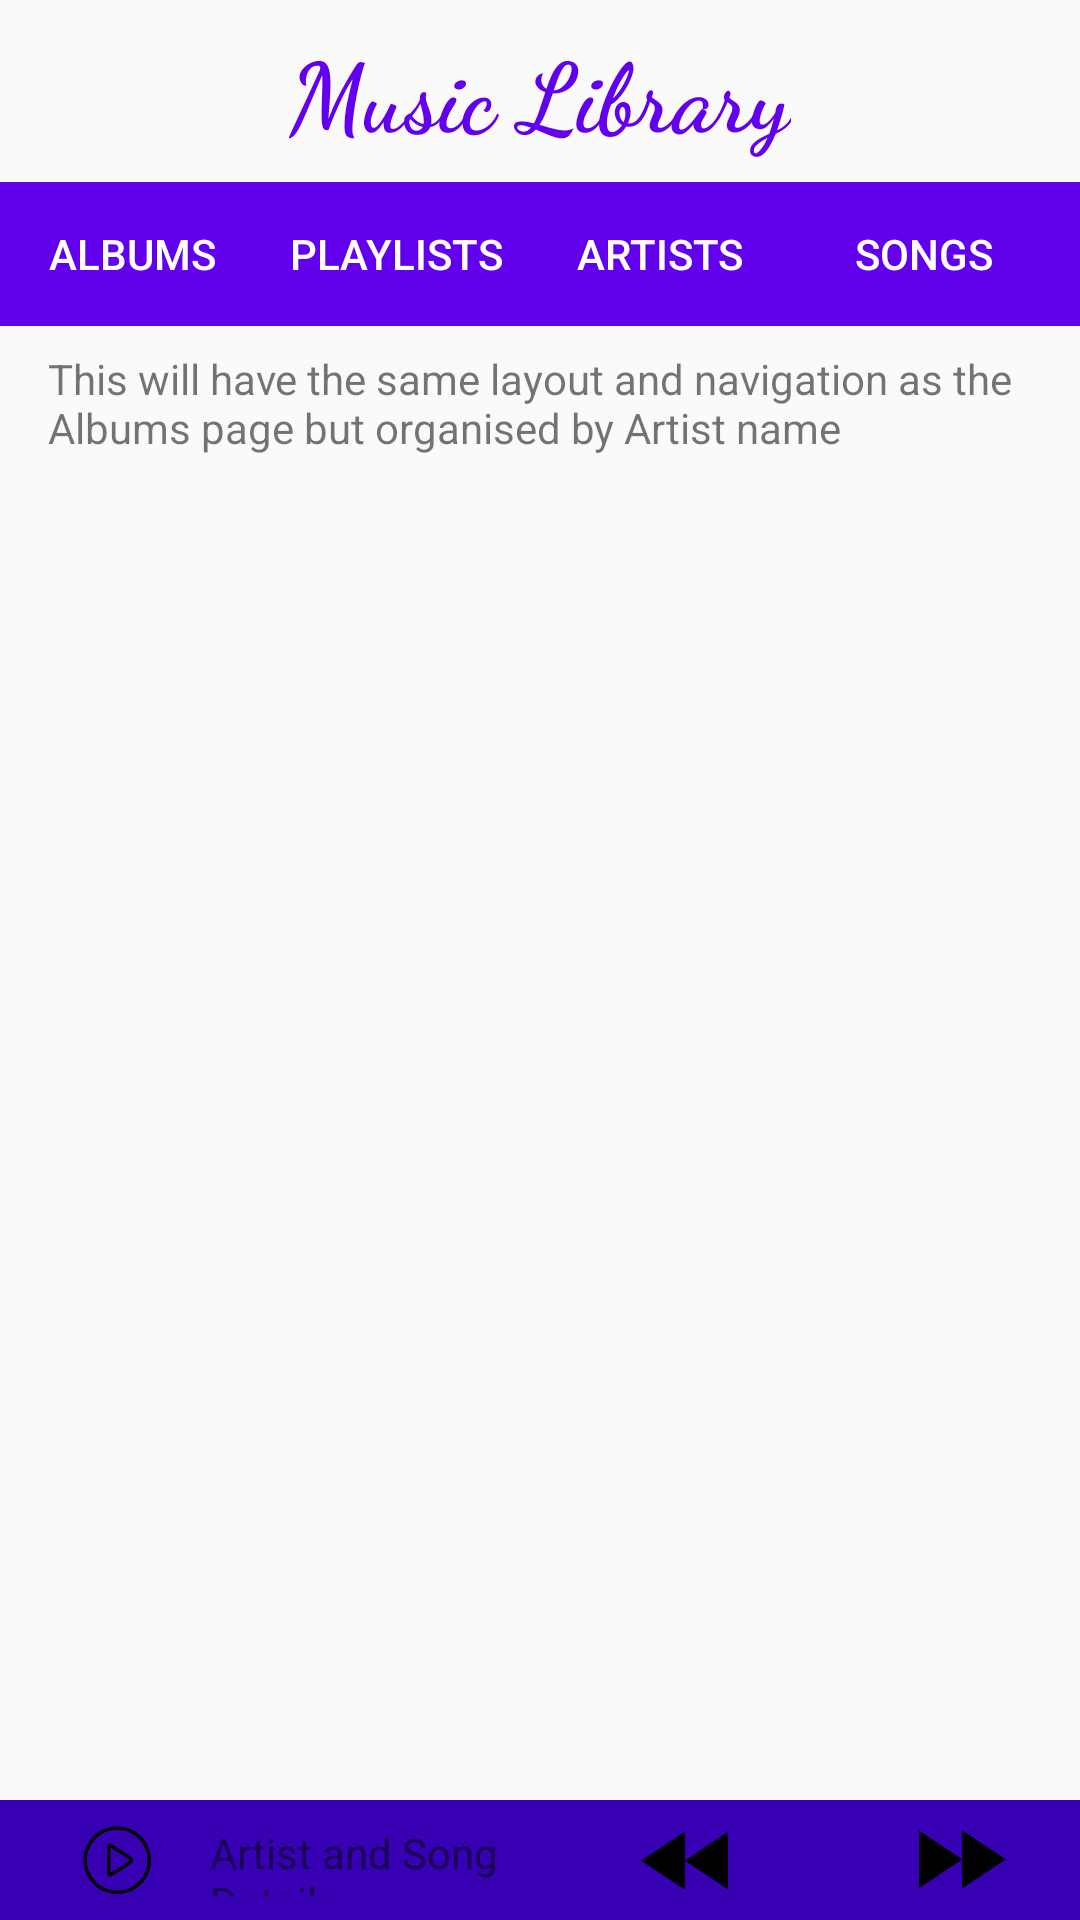

Locate icon controls on the screen. Image size 1080 × 1920, boxes as (x1, y1, x2, y2).
Now Playing Screen Icon: (83, 1826, 151, 1894)
Previous Song Icon: (641, 1832, 728, 1890)
